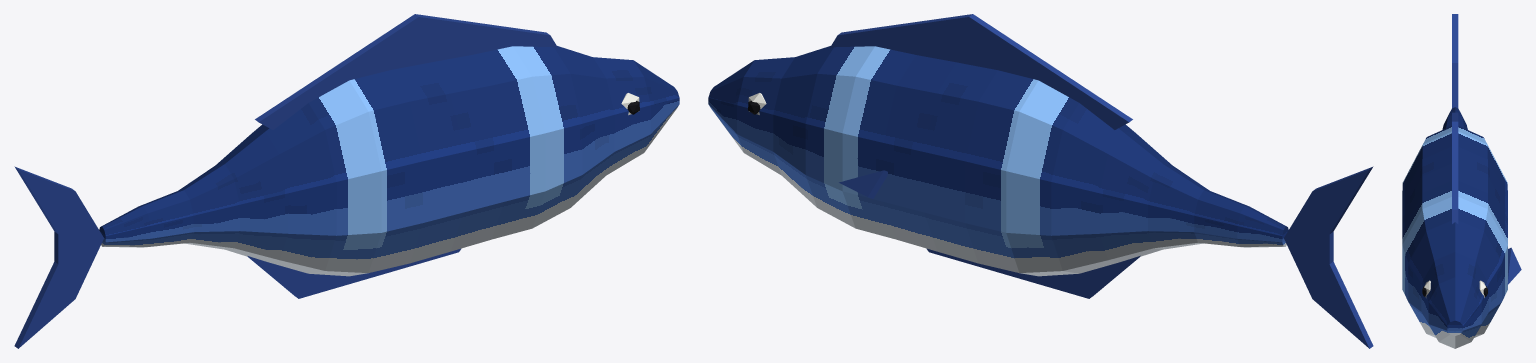
File: blue_marlin.glb
The picture shows the model from 3 angles, left to right: view 1: azimuth 30°, elevation 25°; view 2: azimuth 150°, elevation 25°; view 3: azimuth 270°, elevation 25°; orthographic projection. The views are drawn at different scales.
Visible parts, largest first — view 1: fish_blue_marlin; view 2: fish_blue_marlin; view 3: fish_blue_marlin.
Part boxes in pixels (bbox=[...]): fish_blue_marlin: bbox=[14, 14, 679, 348]; fish_blue_marlin: bbox=[708, 14, 1373, 348]; fish_blue_marlin: bbox=[1402, 14, 1521, 348].
Bounding box in the file's own units: 1.15 × 0.4222 × 0.2363.
Materials: 5 (1 with a texture image).
